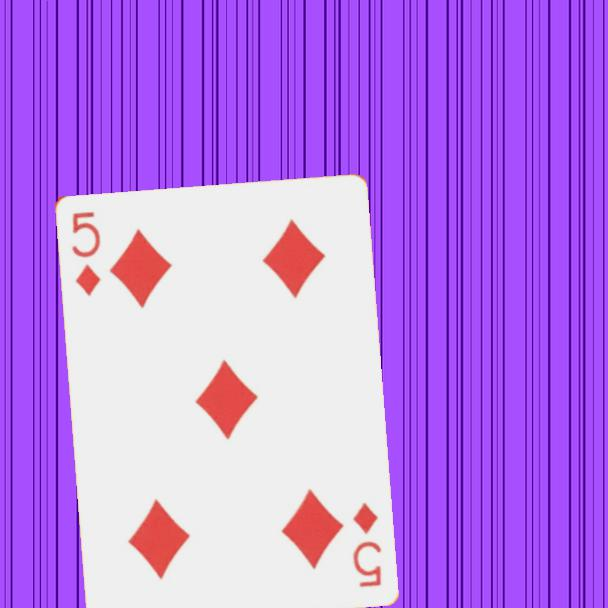d05: (348, 499, 384, 589), (68, 208, 103, 298)
